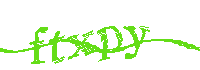f: (30, 25, 49, 64)
p: (96, 24, 124, 63)
t: (49, 29, 66, 64)
x: (68, 29, 95, 58)
y: (125, 22, 149, 61)
